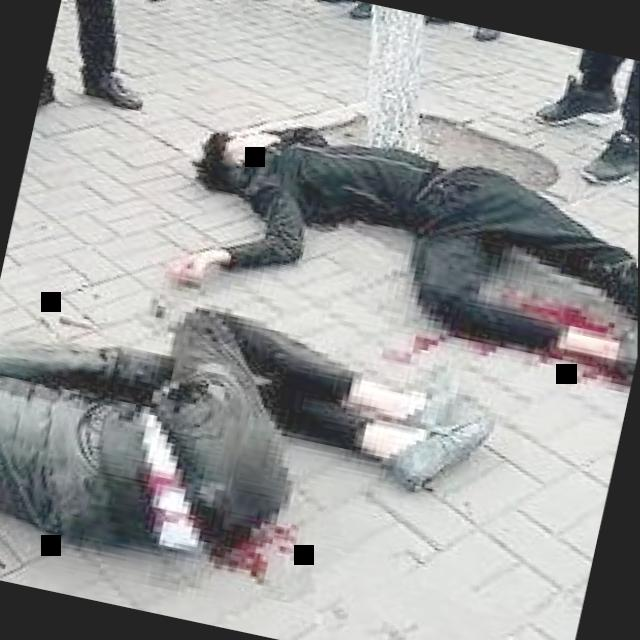Fall-Detected: (0, 228, 558, 640)
